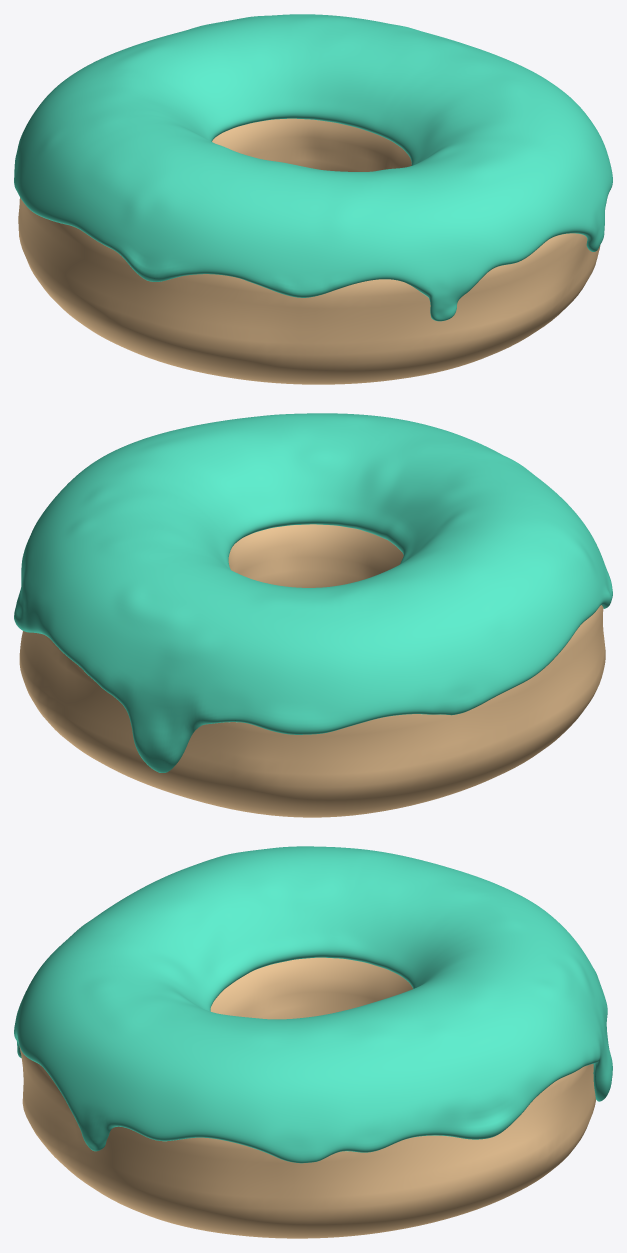
Rendered from tutorialDonut.glb.
3 renders of one model, top to bottom at view 1: azimuth 30°, elevation 25°; view 2: azimuth 150°, elevation 25°; view 3: azimuth 270°, elevation 25°, orthographic. The views are drawn at different scales.
Visible parts, largest first — view 1: Icing.001, Donut; view 2: Icing.001, Donut; view 3: Icing.001, Donut.
Part boxes in pixels (<box>): Icing.001: <box>14,14,612,321</box>; Donut: <box>18,118,600,384</box>; Icing.001: <box>14,413,612,772</box>; Donut: <box>19,524,605,817</box>; Icing.001: <box>14,846,612,1163</box>; Donut: <box>19,957,595,1238</box>.
Size of the model in its own units: 0.1439 by 0.0563 by 0.1449.
